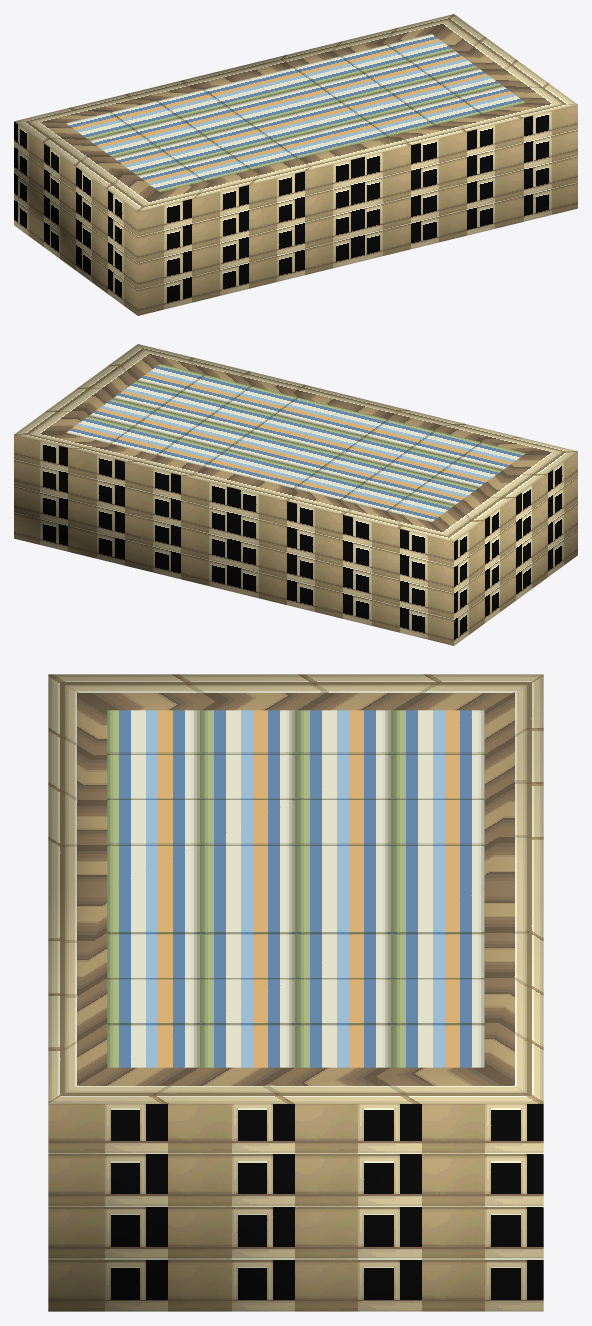
The model's file is 3118IMRL09_09.gltf.
3 views of the same model, one above another, from view 1: azimuth 30°, elevation 25°; view 2: azimuth 150°, elevation 25°; view 3: azimuth 270°, elevation 25° (orthographic). The views are drawn at different scales.
Visible parts, largest first — view 1: 3118IMRL09_09; view 2: 3118IMRL09_09; view 3: 3118IMRL09_09.
Boxes of the visible parts, box(x1,y1,x2,y2) form: 3118IMRL09_09: box(14, 14, 577, 315); 3118IMRL09_09: box(14, 344, 577, 645); 3118IMRL09_09: box(48, 674, 543, 1311).
Size of the model in its own units: 1.95 by 0.4399 by 0.9502.
Materials: 3 (3 with a texture image).
